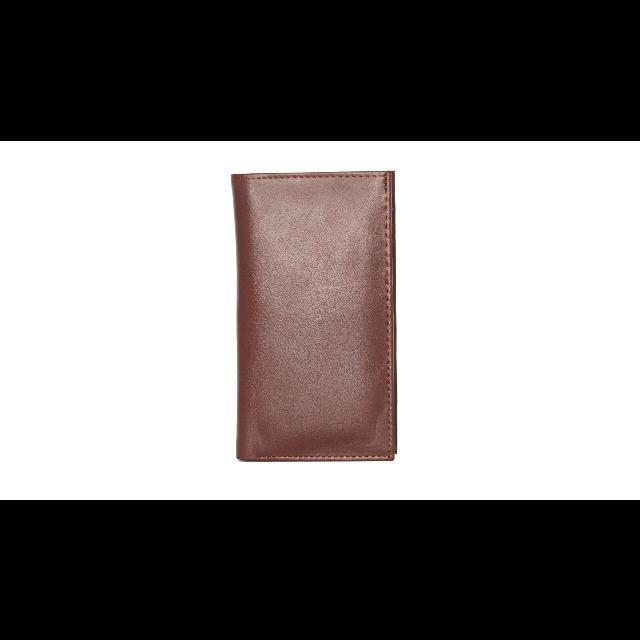wallet: (224, 165, 406, 463)
